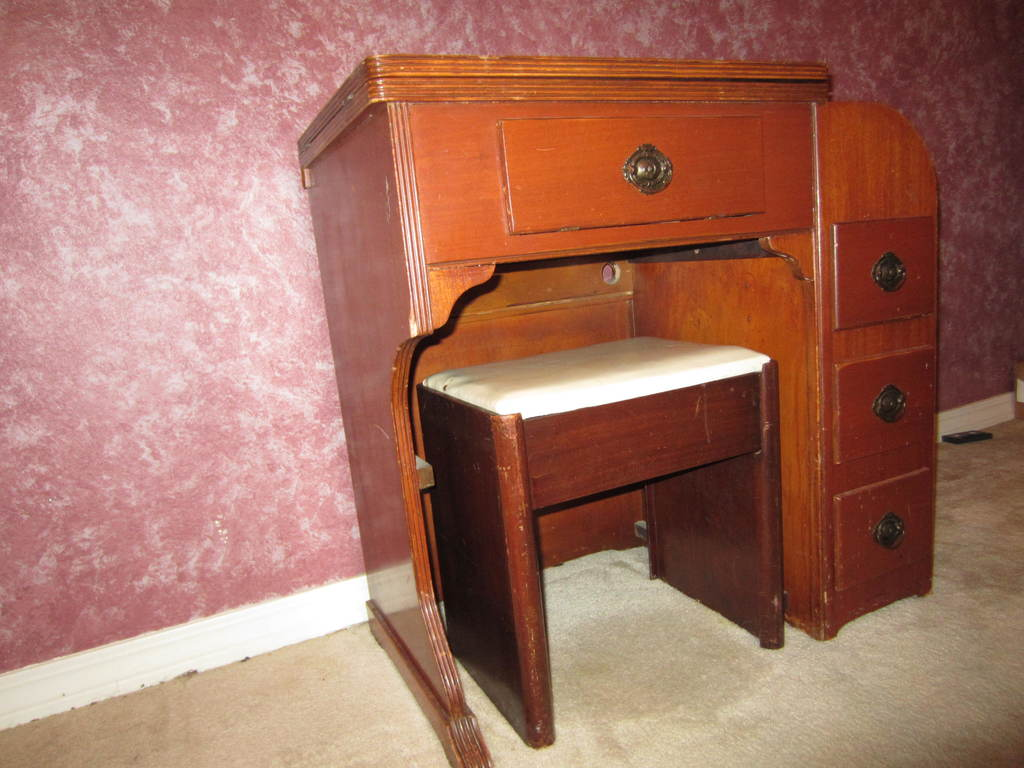cabinet door: (510, 116, 766, 223), (839, 231, 930, 316), (849, 356, 931, 449), (842, 494, 930, 564)
handle: (625, 139, 675, 201), (872, 509, 909, 556), (878, 380, 910, 429), (876, 251, 907, 293)
